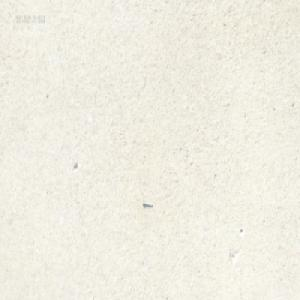Nail: (142, 200, 153, 208)
